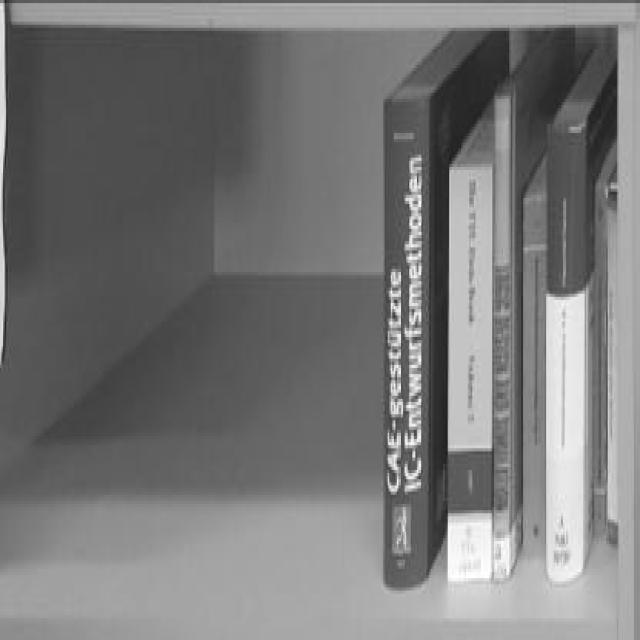book: (377, 80, 439, 599), (541, 112, 601, 584), (445, 148, 496, 579), (491, 90, 524, 567), (519, 192, 547, 560)
